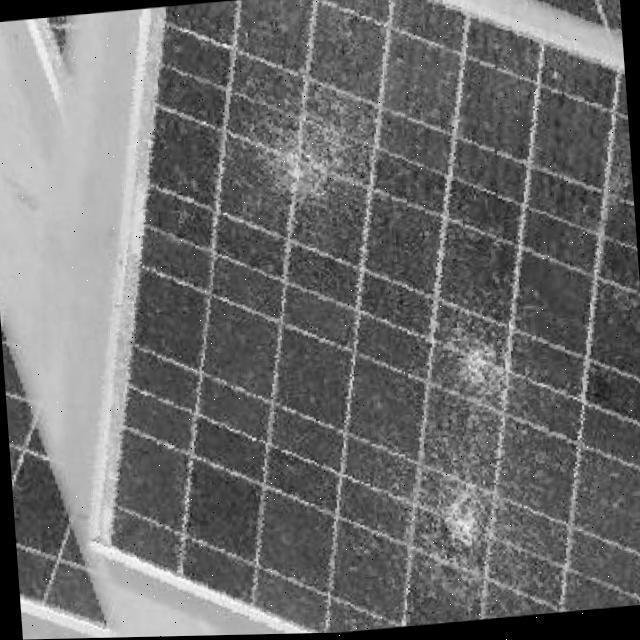Anomaly Solar Panel: (109, 0, 640, 635)
Structural Damage: (206, 63, 394, 244), (391, 449, 542, 615), (411, 308, 552, 438)
